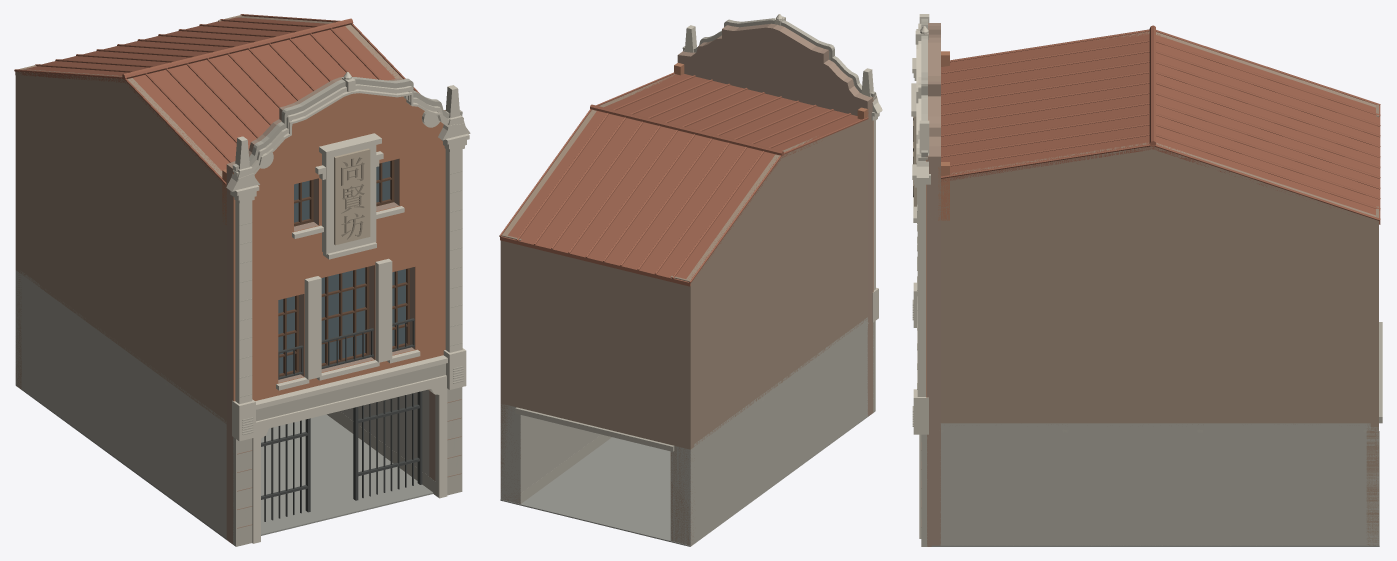
Rendered from huangpu-shangxianfang-gate-lod.glb.
The picture shows the model from 3 angles, left to right: view 1: azimuth 30°, elevation 25°; view 2: azimuth 150°, elevation 25°; view 3: azimuth 270°, elevation 25°; orthographic projection. The views are drawn at different scales.
Visible parts, largest first — view 1: 尚贤坊（淮海中路主弄门楼）; view 2: 尚贤坊（淮海中路主弄门楼）; view 3: 尚贤坊（淮海中路主弄门楼）.
Boxes of the visible parts, x1,y1,x2,y2 form: 尚贤坊（淮海中路主弄门楼）: [14, 14, 470, 546]; 尚贤坊（淮海中路主弄门楼）: [499, 14, 882, 546]; 尚贤坊（淮海中路主弄门楼）: [911, 14, 1382, 546].
Size of the model in its own units: 7.41 by 13.23 by 12.2.
